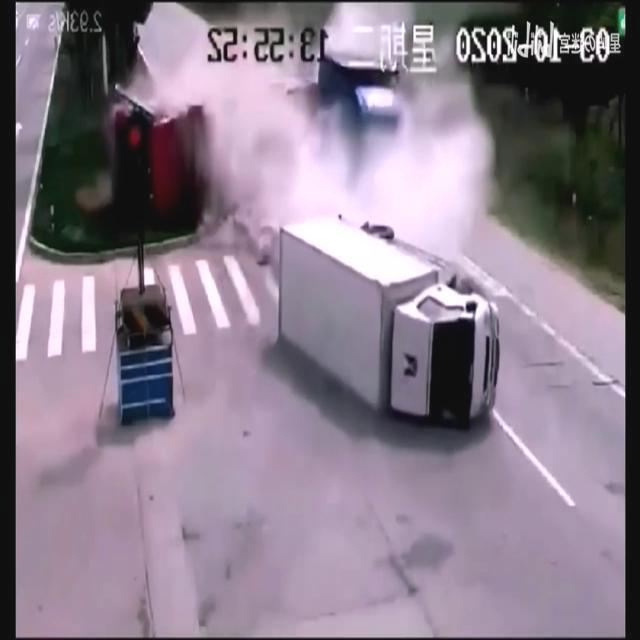accident: (110, 17, 502, 430)
